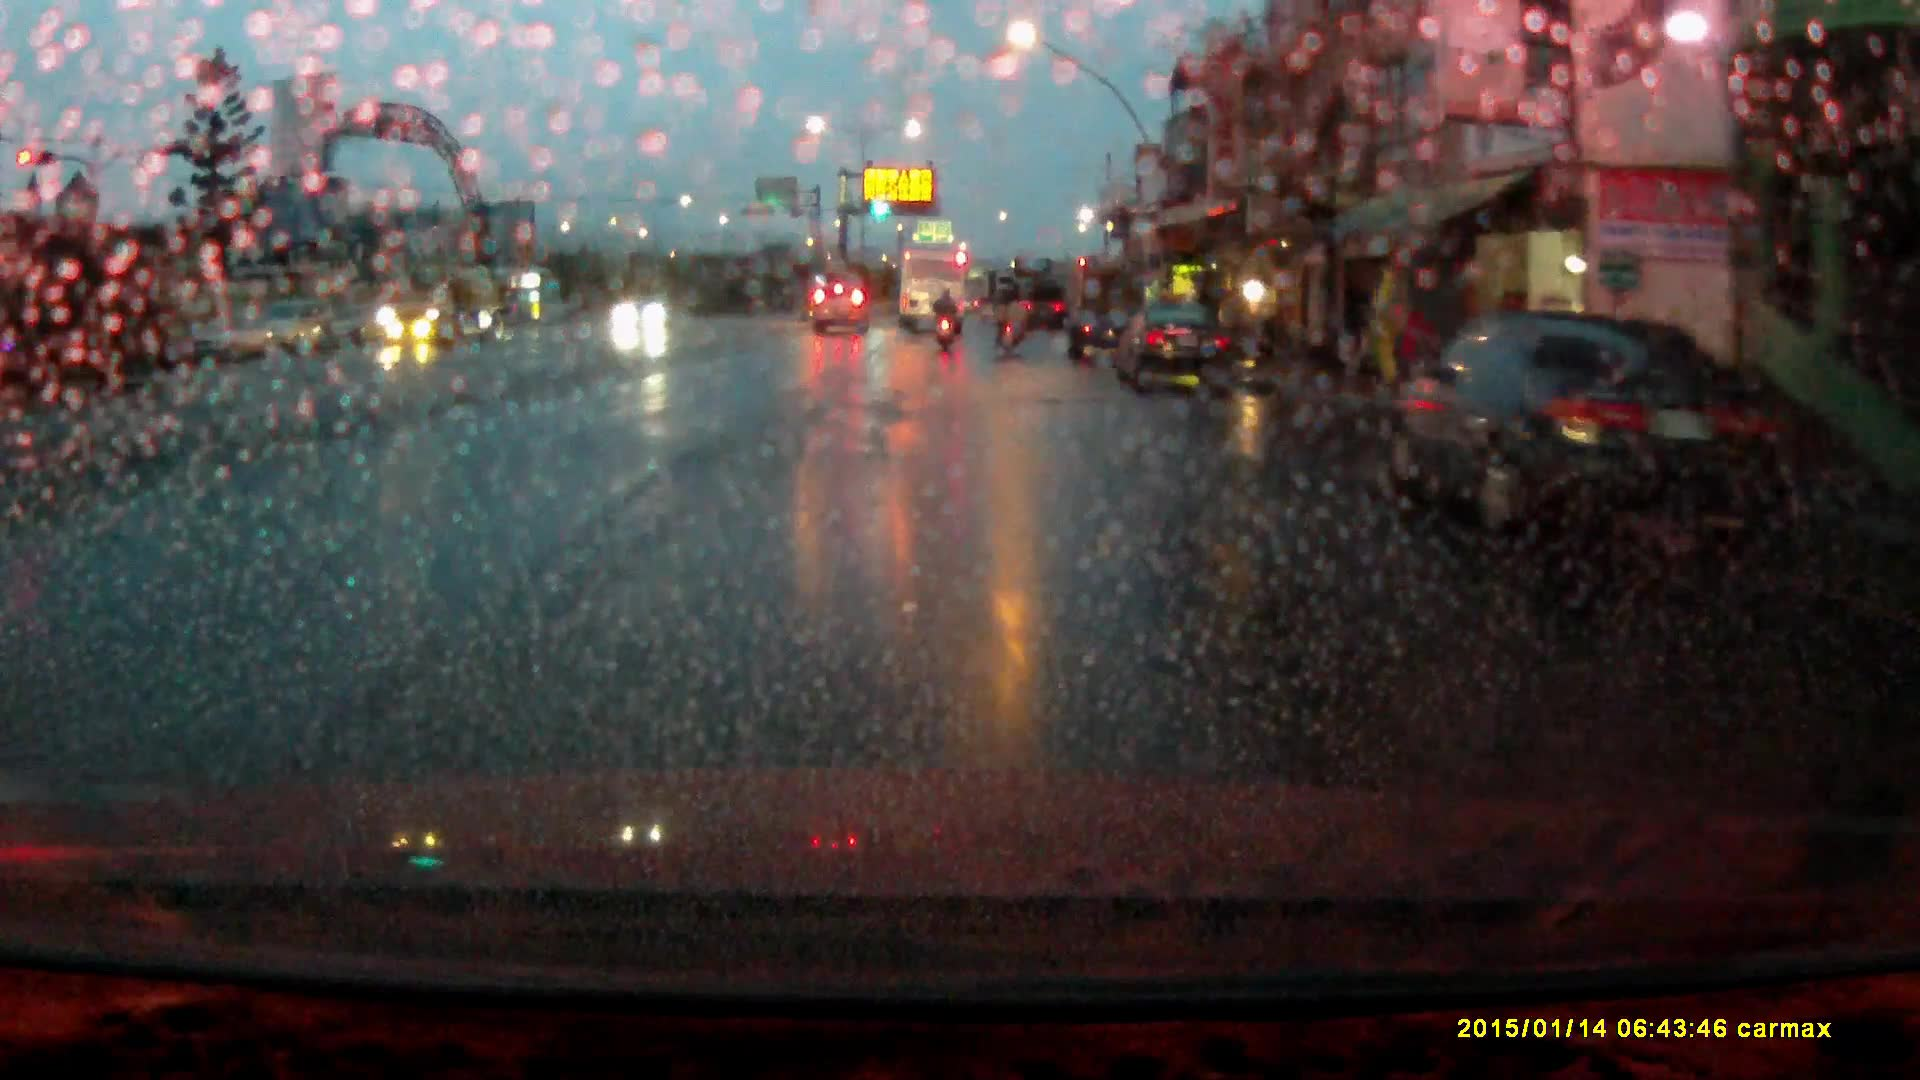rider: (991, 276, 1024, 358), (932, 288, 961, 351)
vehicle: (1386, 314, 1771, 564), (372, 264, 513, 345), (1119, 306, 1236, 392), (1066, 265, 1147, 363), (898, 245, 969, 333), (186, 311, 269, 364), (1009, 258, 1070, 330), (262, 301, 336, 351), (810, 281, 874, 337), (617, 293, 673, 330)
